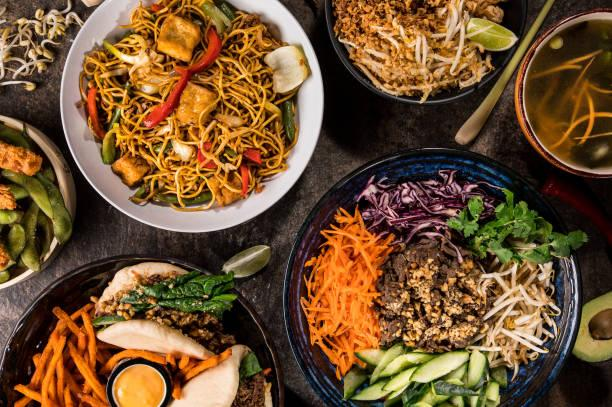Braised Crucian Carp: (285, 148, 579, 404), (59, 1, 321, 235), (1, 254, 285, 406), (323, 0, 523, 106), (514, 7, 610, 180)
